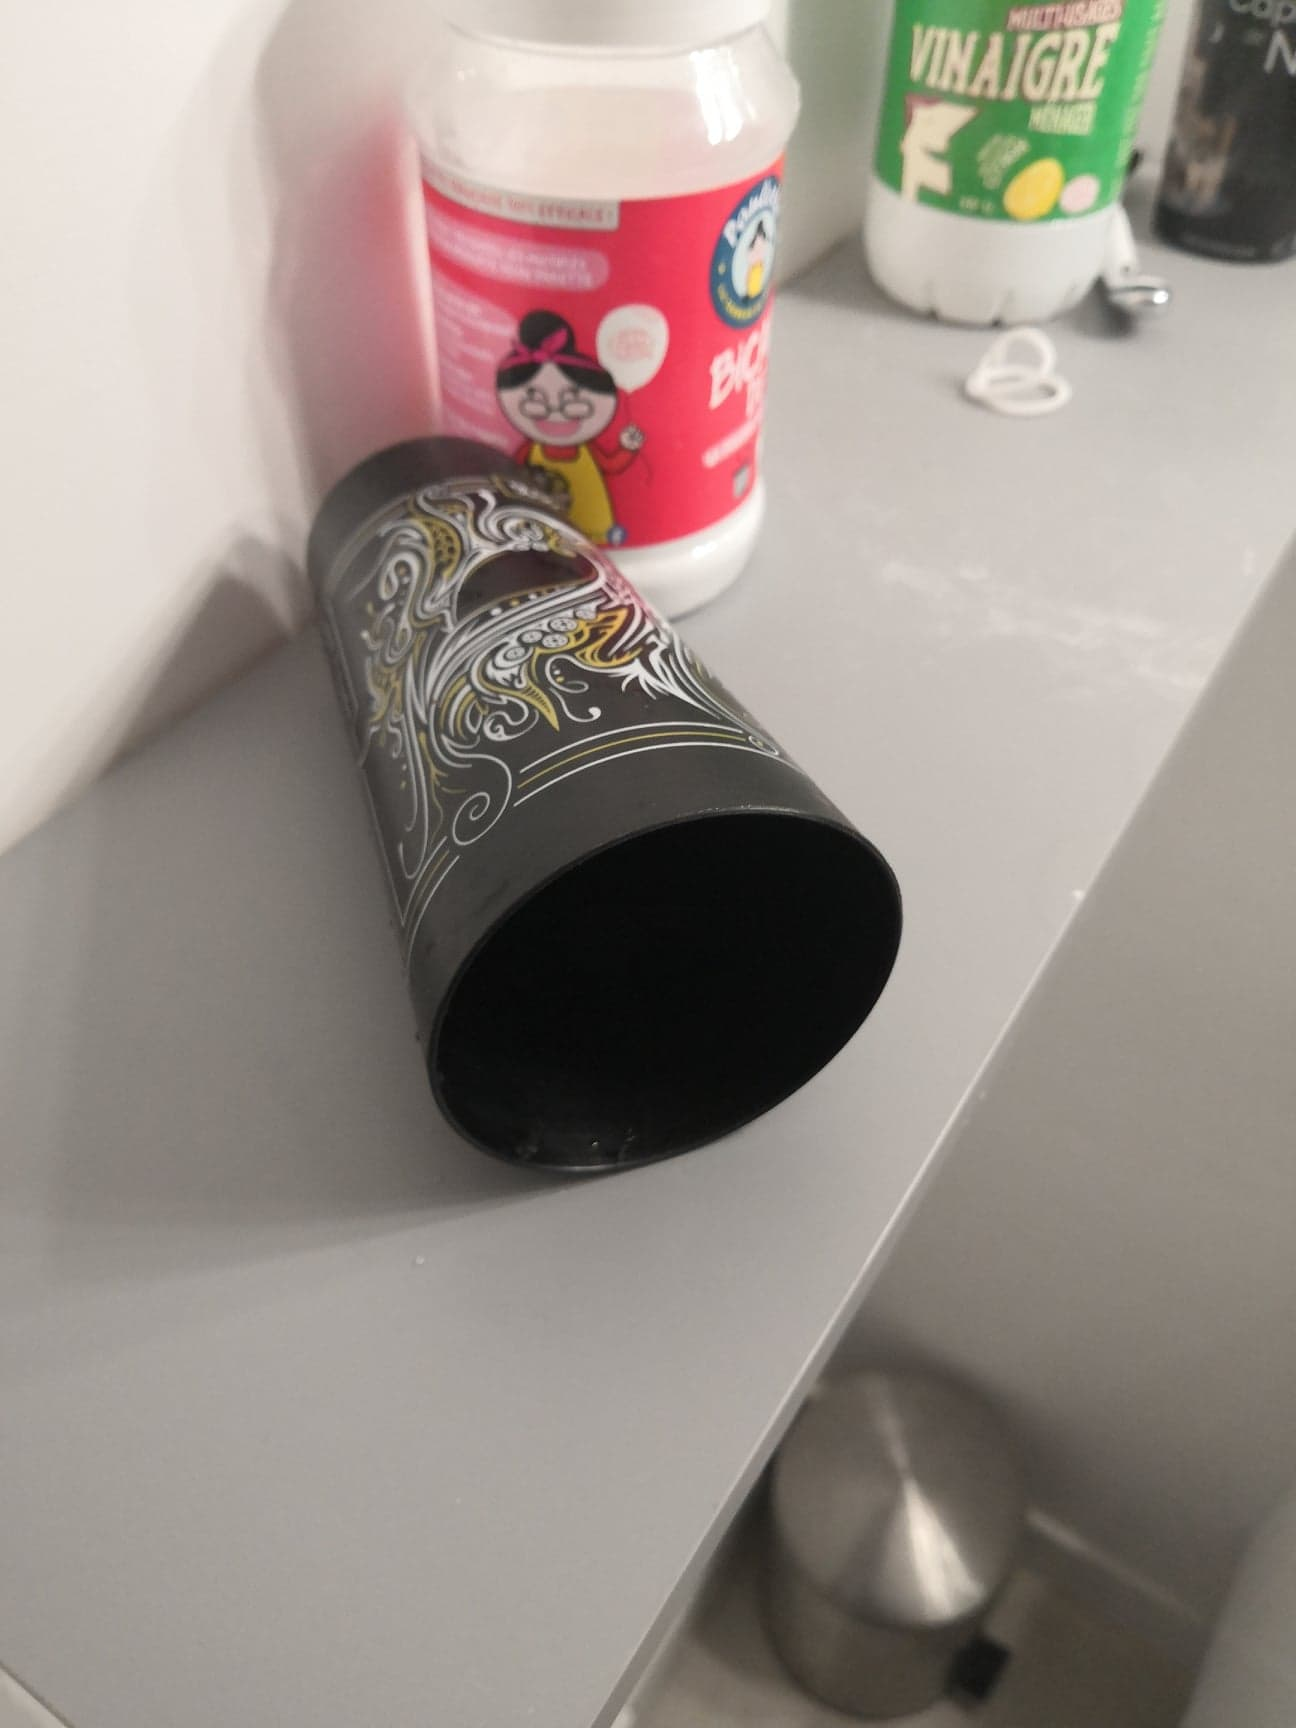ecocup: (304, 433, 911, 1180)
